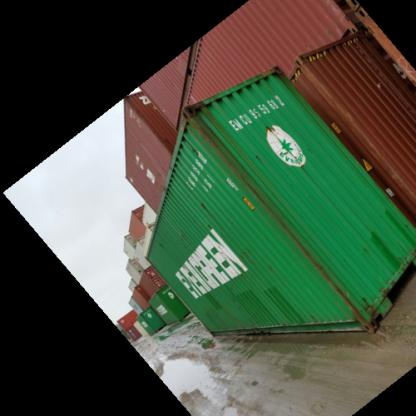Damage: (245, 153, 309, 254), (302, 244, 370, 316), (182, 102, 242, 173)
